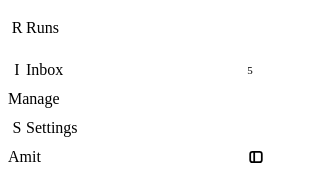
Test: Sidebar names its groups, and keeps every link named when collapsed
The width and height of the screenshot is (320, 194).
Expected: the list named "Manage" is shown, [12,119,78,136]
Expected: the text "Amit" is shown, [8,148,41,165]
Click the button named "Collapse sidebar".
click(256, 157)  # box [248,149,264,165]
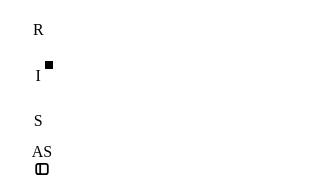
Expected: the link named "Inbox 5" is shown, [16,54,60,98]
Expected: the navigation bar named "Workspace" has attribute data-collapsed, [8,8,76,177]
Expected: the button named "Expand sidebar" is collapsed, [34,161,50,177]
